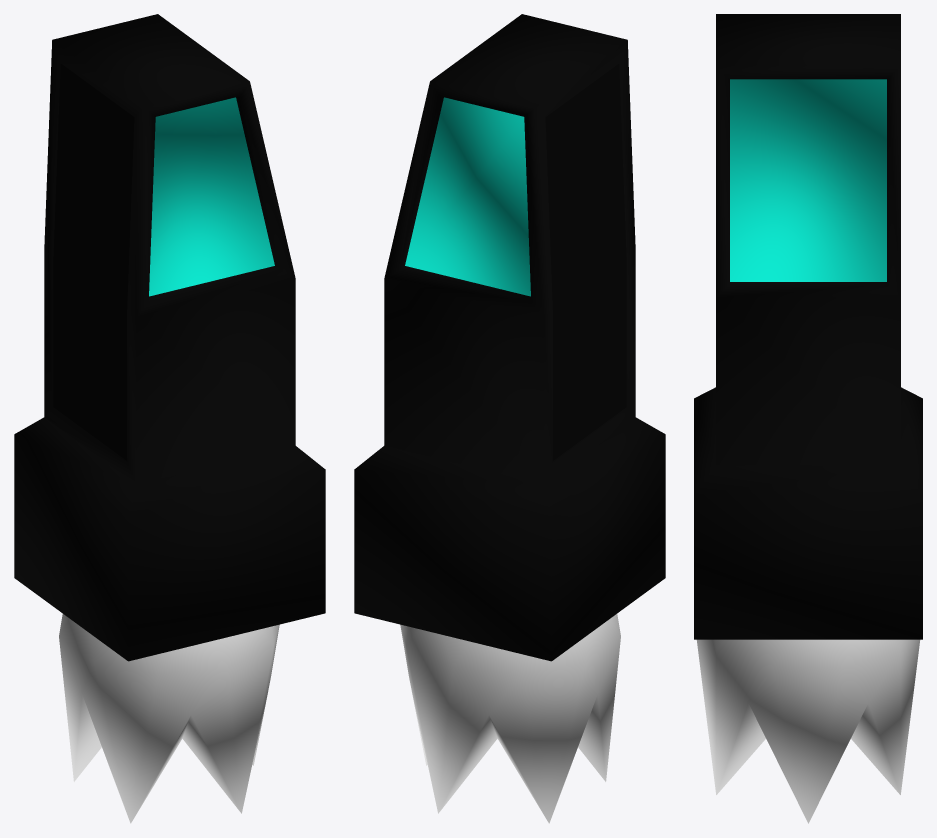
File: Pod.fbx
3 views of the same model, side by side, from view 1: azimuth 30°, elevation 25°; view 2: azimuth 150°, elevation 25°; view 3: azimuth 270°, elevation 25° (orthographic).
Visible parts, largest first — view 1: Cube, Icosphere, Cube.001; view 2: Cube, Icosphere, Cube.001; view 3: Cube, Icosphere.
Part boxes in pixels (x1,y1,x2,y2): Cube: [14, 14, 325, 661]; Icosphere: [59, 614, 279, 823]; Cube.001: [53, 63, 134, 460]; Cube: [354, 14, 665, 661]; Icosphere: [400, 614, 620, 823]; Cube.001: [545, 63, 626, 460]; Cube: [694, 14, 922, 639]; Icosphere: [696, 639, 920, 823].
Size of the model in its own units: 201 by 710 by 201.
